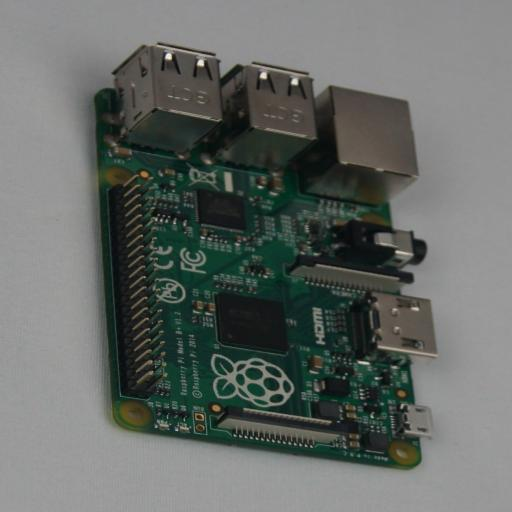Raspberry Pi 1 B-: (87, 42, 436, 470)
